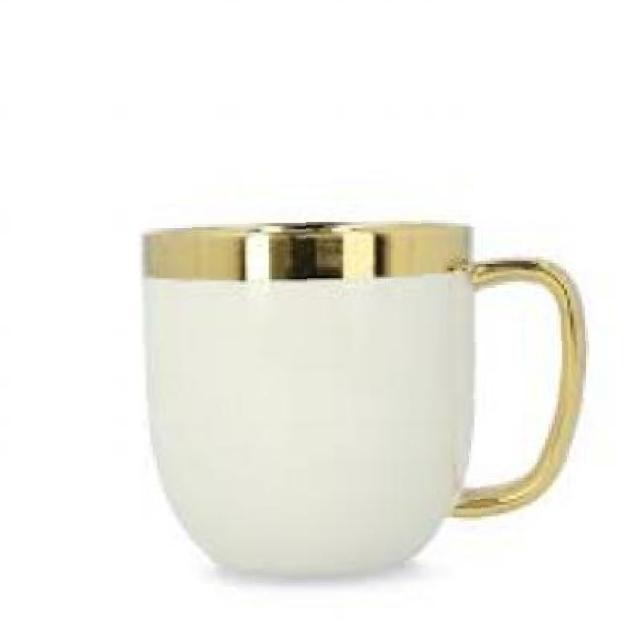cup: (132, 211, 599, 589)
